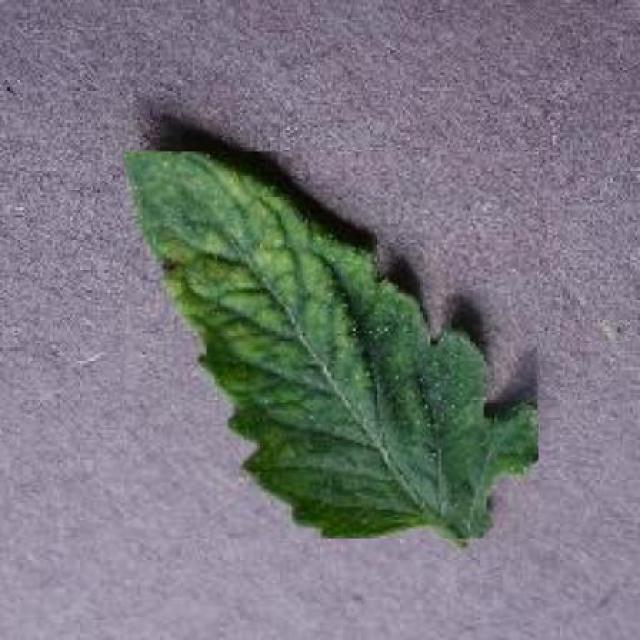Mosaic Virus: (124, 152, 539, 538)
